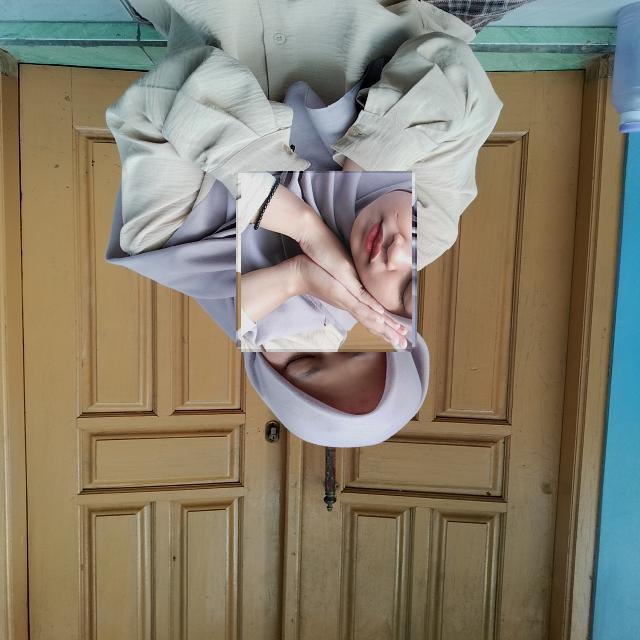tidur: (238, 173, 415, 349)
